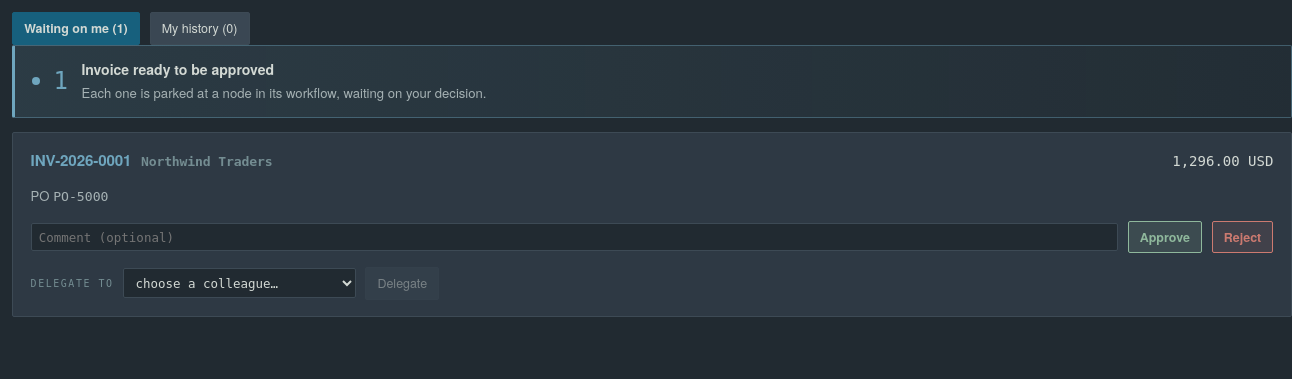
Test: delegation › hands off to the chosen colleague and refreshes the queue
Select "Carla Colleague · APPROVER" in the dropdown at (240, 283), box [123, 268, 356, 298]
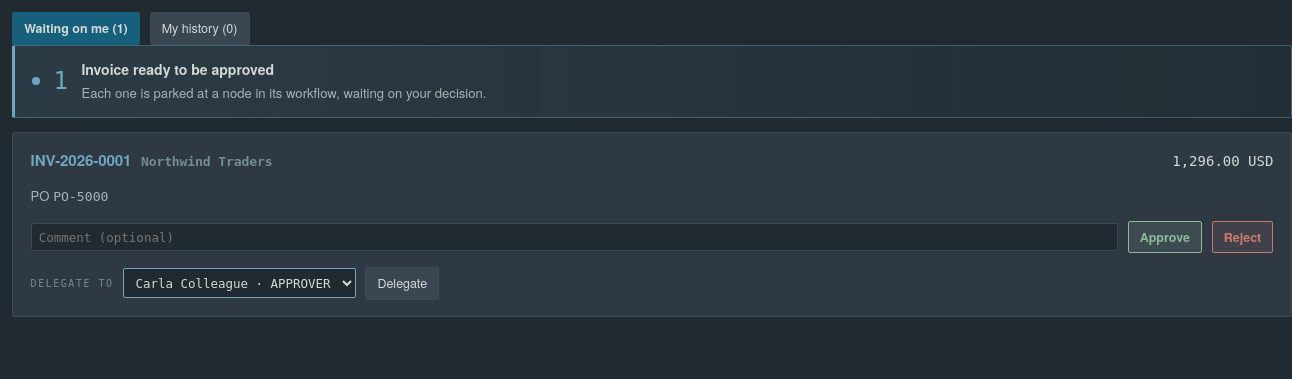
Click the button "Delegate".
click(402, 283)  # box [365, 267, 439, 300]
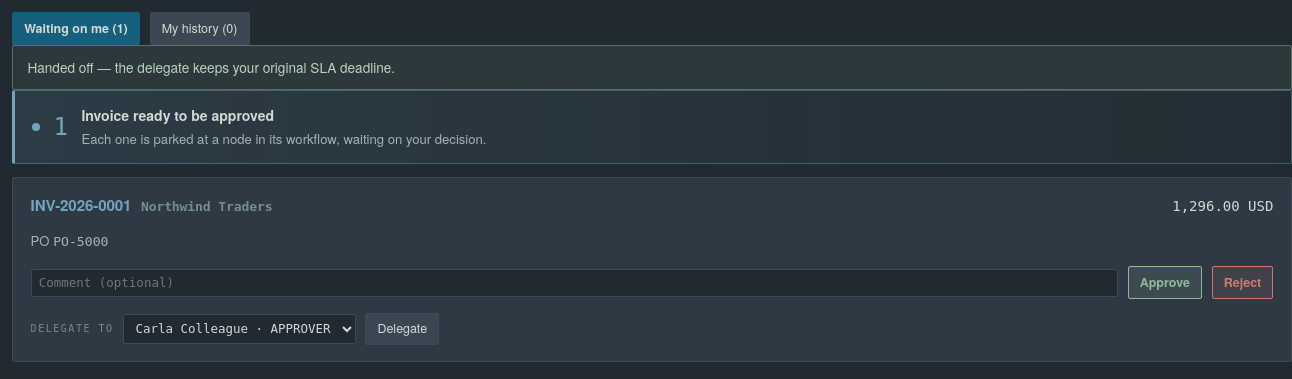
Expected: the text "Handed off — the delegate keeps your original SLA deadline." is shown, [12, 44, 1291, 90]
